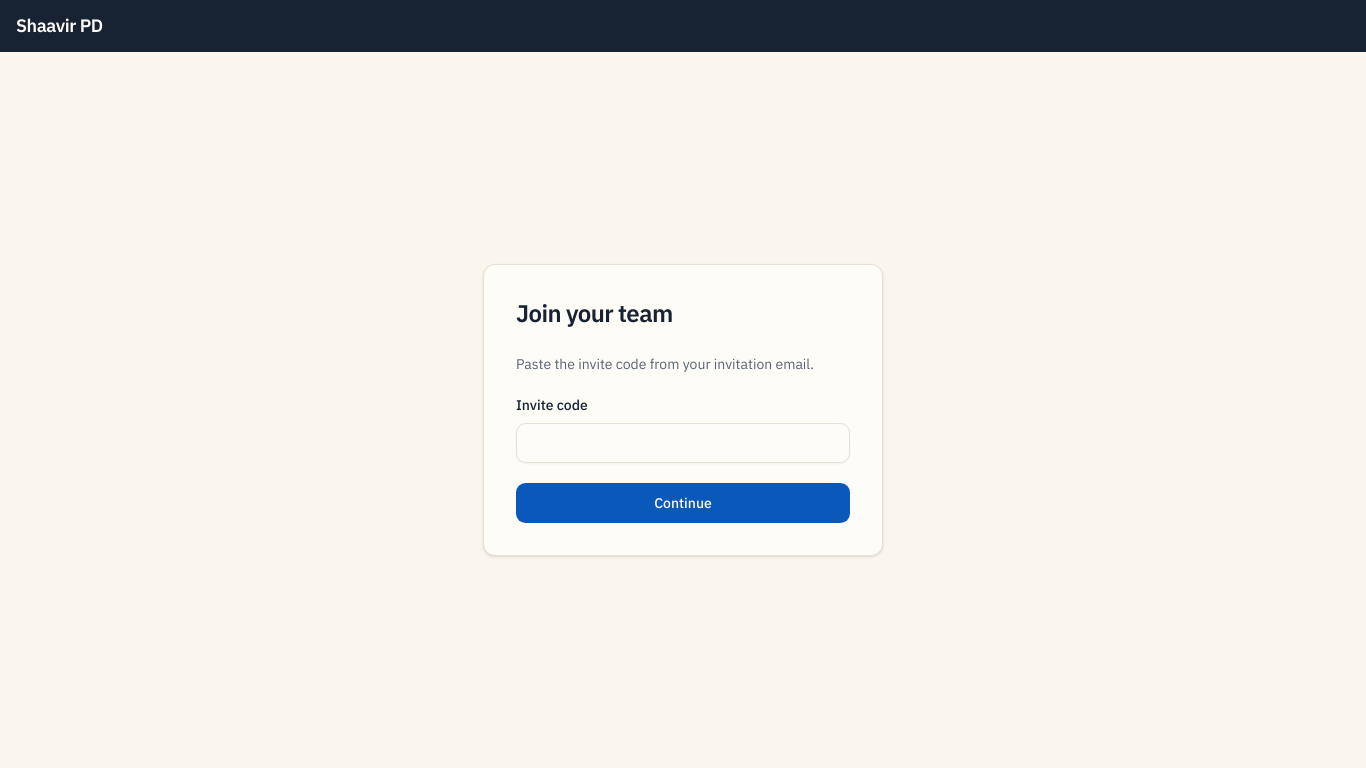
Test case: AcceptInvite › shows an inline error for a bad code and does not submit
Type "nonsense" into the field labelled "Invite code".
click(683, 443); type("nonsense")  # box [516,423,850,463]
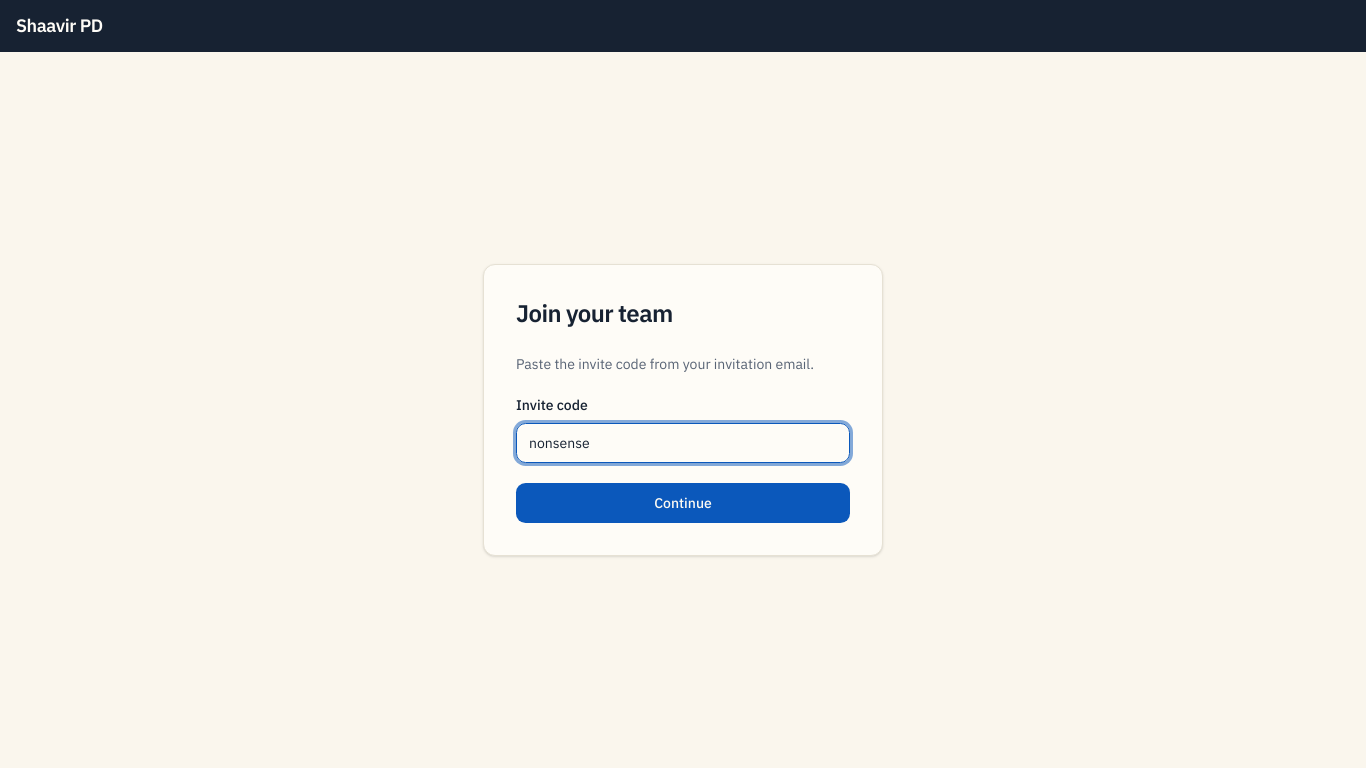
Click the button "Continue".
click(683, 503)  # box [516,483,850,523]
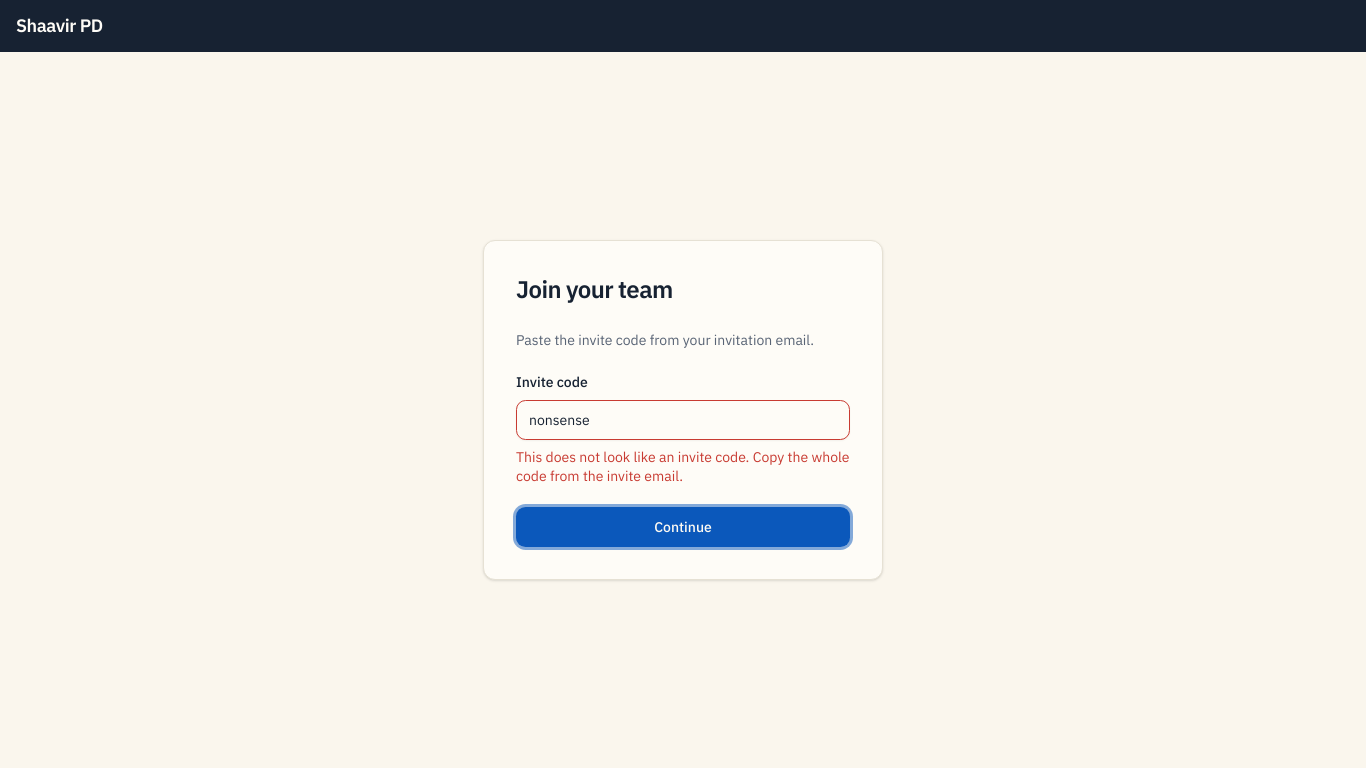
expect the message shows "does not look like an invite code": met, box [516,448,850,485]
